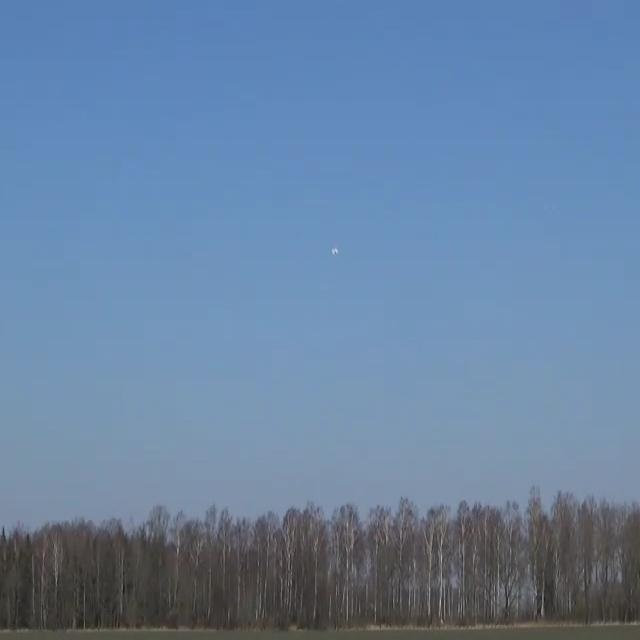Drone: (320, 233, 352, 270)
